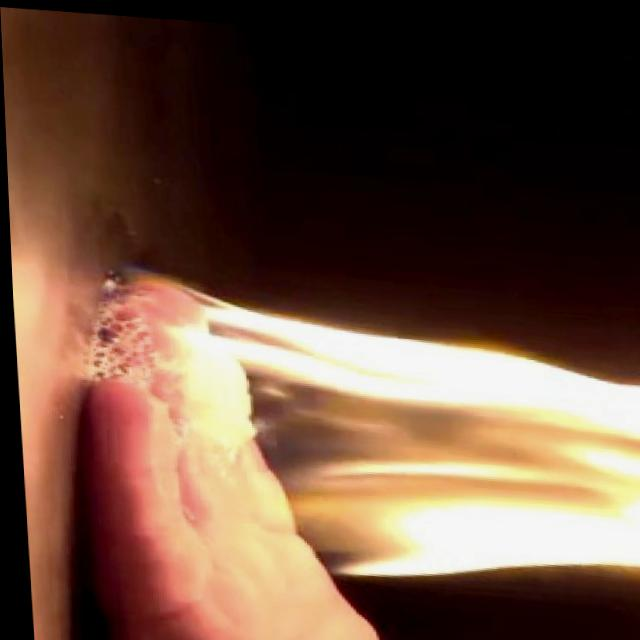helmet: (128, 276, 640, 610)
